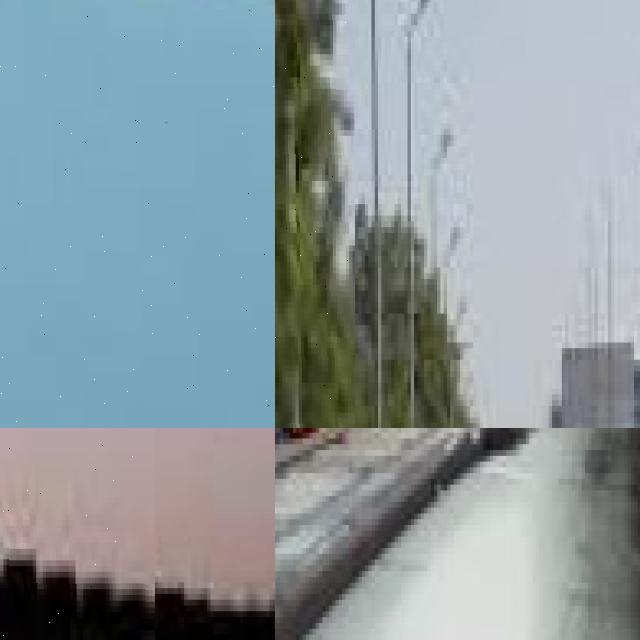street light: (0, 0, 275, 428), (275, 0, 354, 428), (0, 428, 154, 640), (368, 0, 410, 428)
